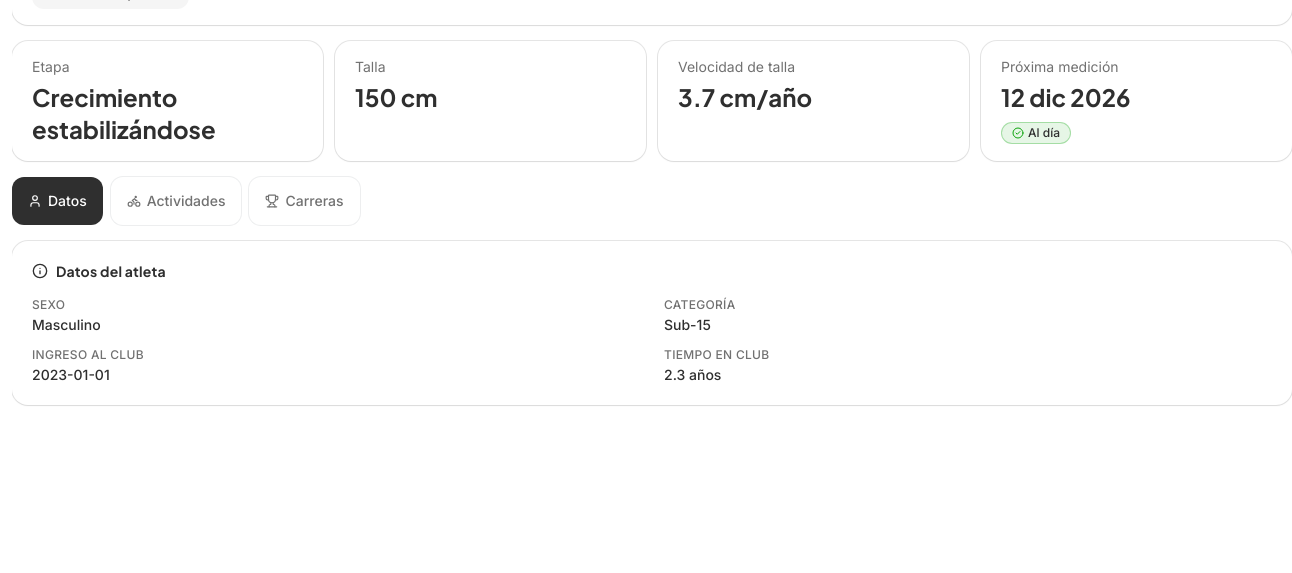
Test: MyAthleteDetailPage — Carreras › Progresión (padre, features 044 US7 + 045) › click en 'Carreras' monta Progresión con audience='family', scopeada al atleta de la ruta
The image size is (1292, 573).
Click the button with test id "parent-tab-races" at [304, 201], box 250,177 -> 360,225
(page scrolled)
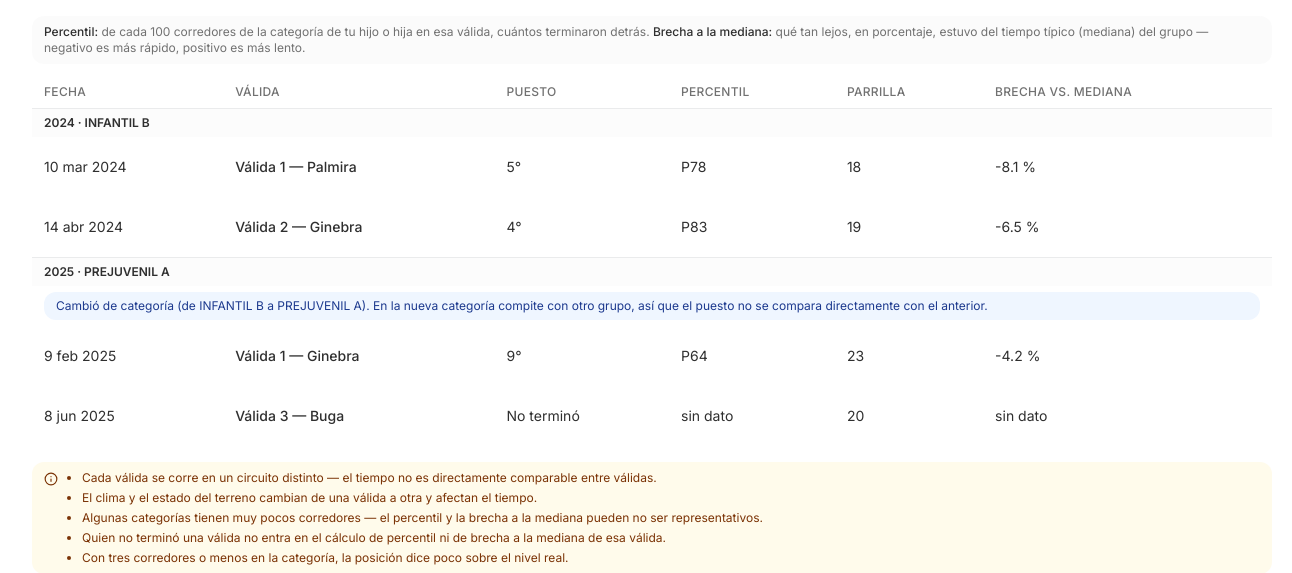
Result: the text with test id "^history-family-category-note-(?!mobile-)" shows "Cambió de categoría (de INFANTIL B a PREJUVENIL A). En la nueva categoría compite con otro grupo, así que el puesto no se compara directamente con el anterio" at 56,298 -> 988,312
